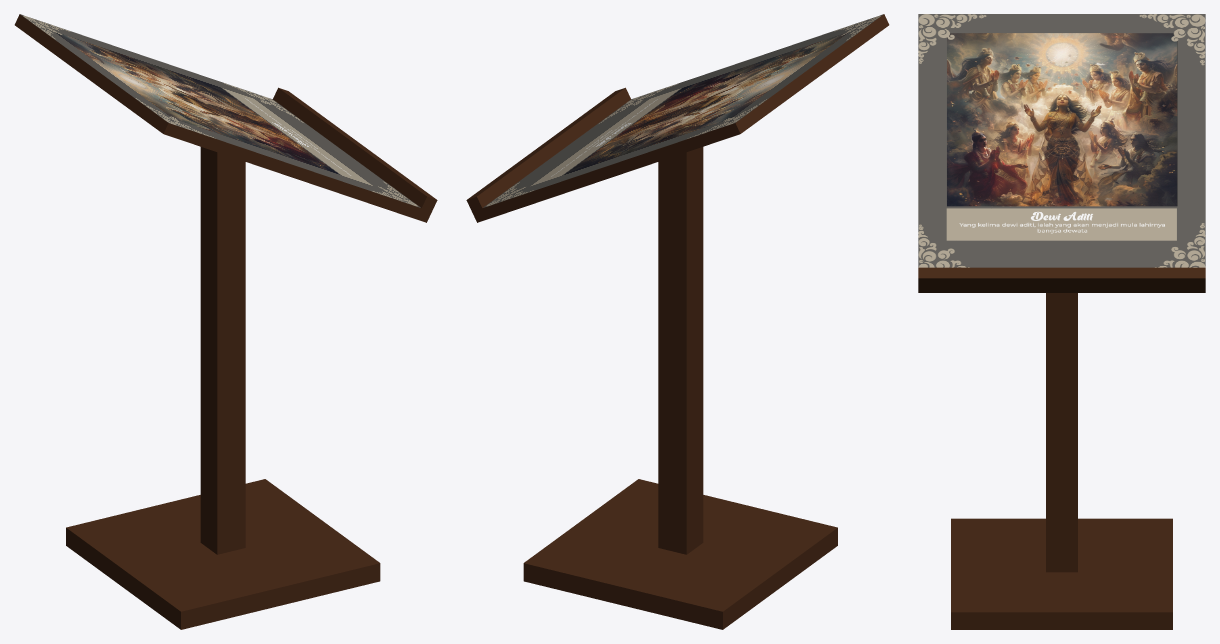
The model's file is Dewi Aditi.glb.
3 views of the same model, side by side, from view 1: azimuth 30°, elevation 25°; view 2: azimuth 150°, elevation 25°; view 3: azimuth 270°, elevation 25° (orthographic). The views are drawn at different scales.
Parts seen in each view (by area): view 1: Cube.001, Cube.002, Cube; view 2: Cube.001, Cube.002, Cube; view 3: Cube.002, Cube.001, Cube.
Boxes of the visible parts, box(x1,y1,x2,y2) form: Cube.001: box(66, 479, 380, 629); Cube.002: box(14, 14, 437, 222); Cube: box(200, 147, 245, 554); Cube.001: box(523, 479, 837, 629); Cube.002: box(466, 14, 889, 222); Cube: box(658, 147, 703, 554); Cube.002: box(918, 14, 1205, 292); Cube.001: box(951, 518, 1172, 629); Cube: box(1046, 293, 1077, 572).
Size of the model in its own units: 0.6504 by 1.19 by 0.6117.
Materials: 2 (1 with a texture image).
